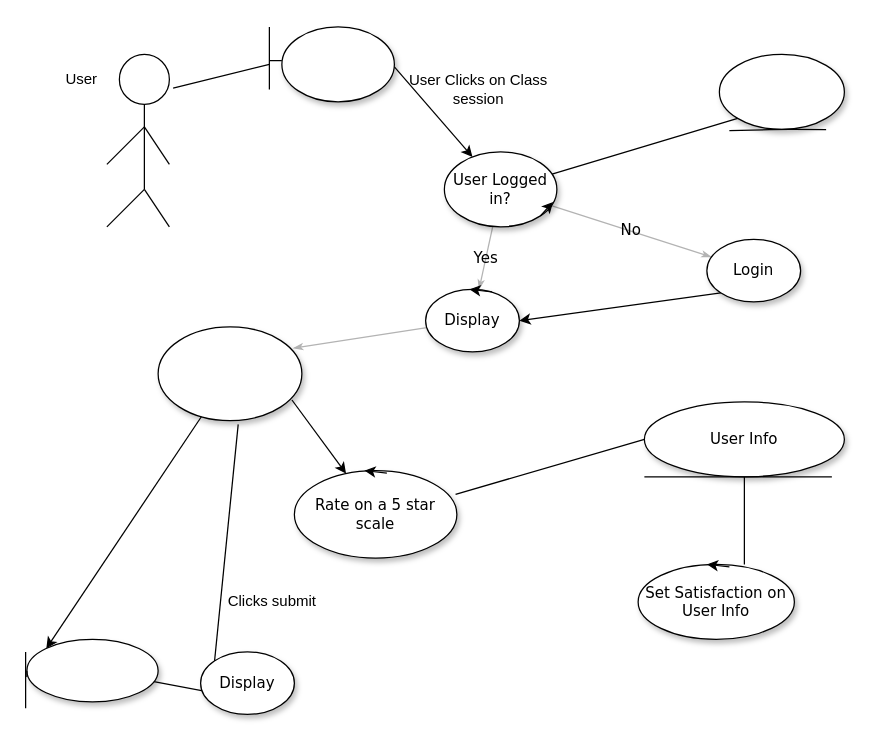
Image size: 874x745. Some labels were removed from this diagram. Each missing label, with the centre of its shape:
Confirmation Page: [93,672]
Home Page: [339,66]
Provide Feedback Page: [230,375]
User Session: [782,93]
